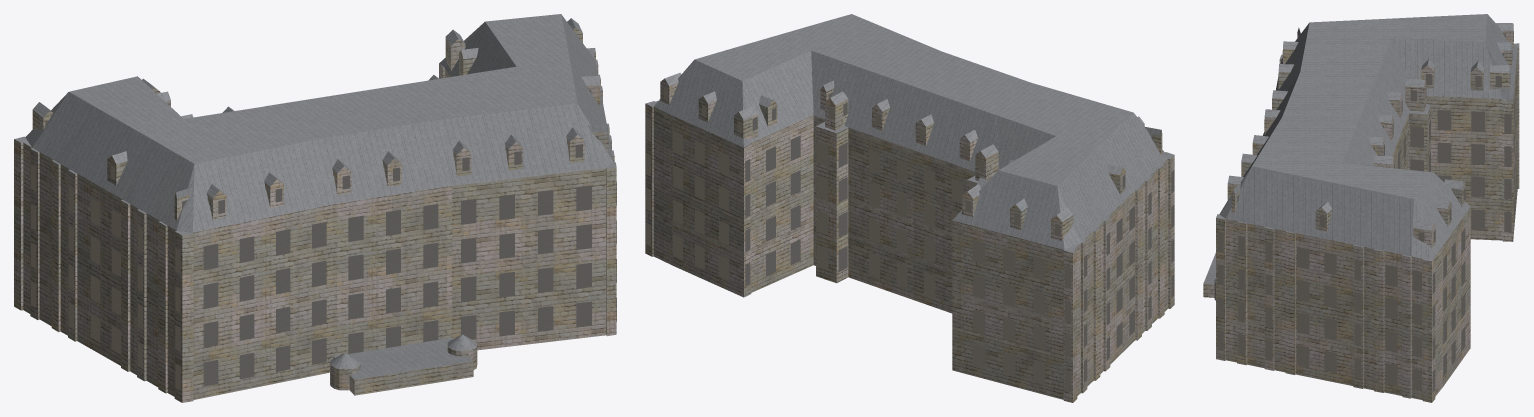
Rendered from hotel-de-gunsburg.glb.
The picture shows the model from 3 angles, left to right: view 1: azimuth 30°, elevation 25°; view 2: azimuth 150°, elevation 25°; view 3: azimuth 270°, elevation 25°; orthographic projection. The views are drawn at different scales.
Parts seen in each view (by area): view 1: stone, roof, window; view 2: stone, roof, window, trim; view 3: stone, roof, window, trim.
Boxes of the visible parts, <box> form: stone: <box>14,27,616,402</box>; roof: <box>14,14,616,379</box>; window: <box>31,46,616,390</box>; stone: <box>645,78,1174,402</box>; roof: <box>646,14,1174,252</box>; window: <box>646,87,1174,392</box>; trim: <box>651,108,1170,361</box>; stone: <box>1203,24,1519,402</box>; roof: <box>1203,14,1519,284</box>; window: <box>1217,31,1517,392</box>; trim: <box>1225,49,1519,363</box>.
Size of the model in its own units: 52.93 by 21 by 32.44.
4 materials, 4 textured.
